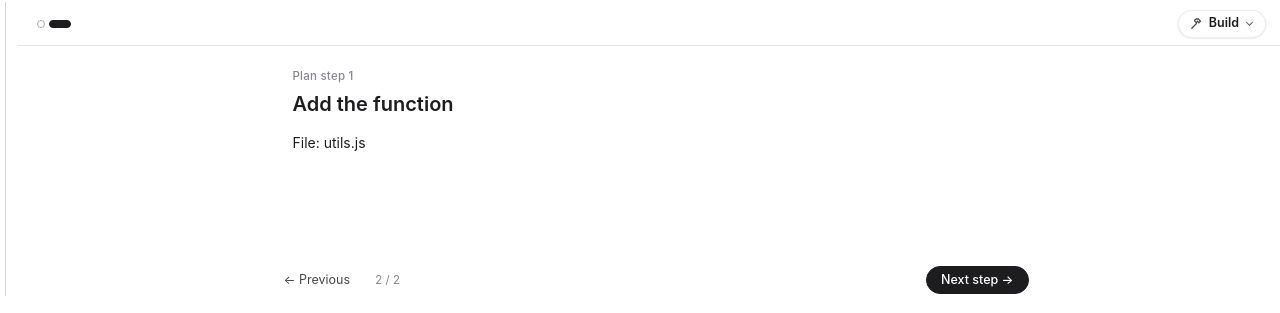
Scenario: StepsView › shows your messages with your name and when you sent them
Click the button "← Previous": [317, 280] box [268,266,365,294]
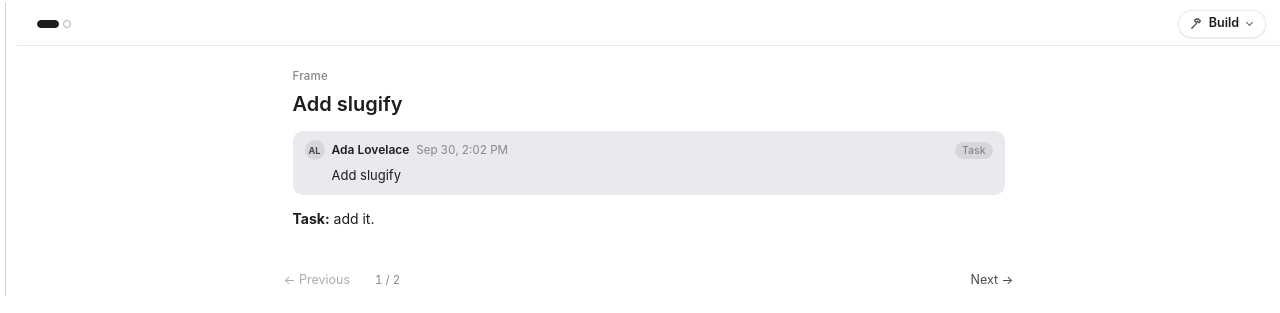
Expected: the text with class "user-avatar" reads "AL", [308,144,321,156]
Expected: the text with class "user-note-tag" reads "Task", [962,144,986,157]
